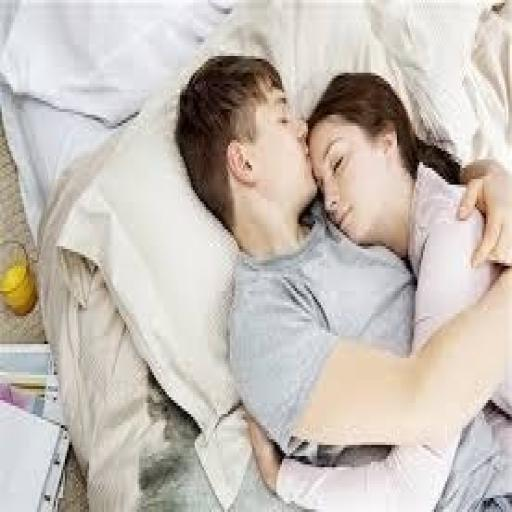hugging: (173, 50, 510, 510)
